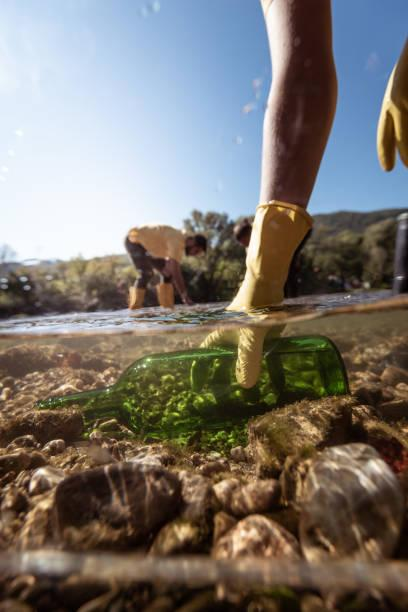Plastic: (28, 340, 373, 435)
